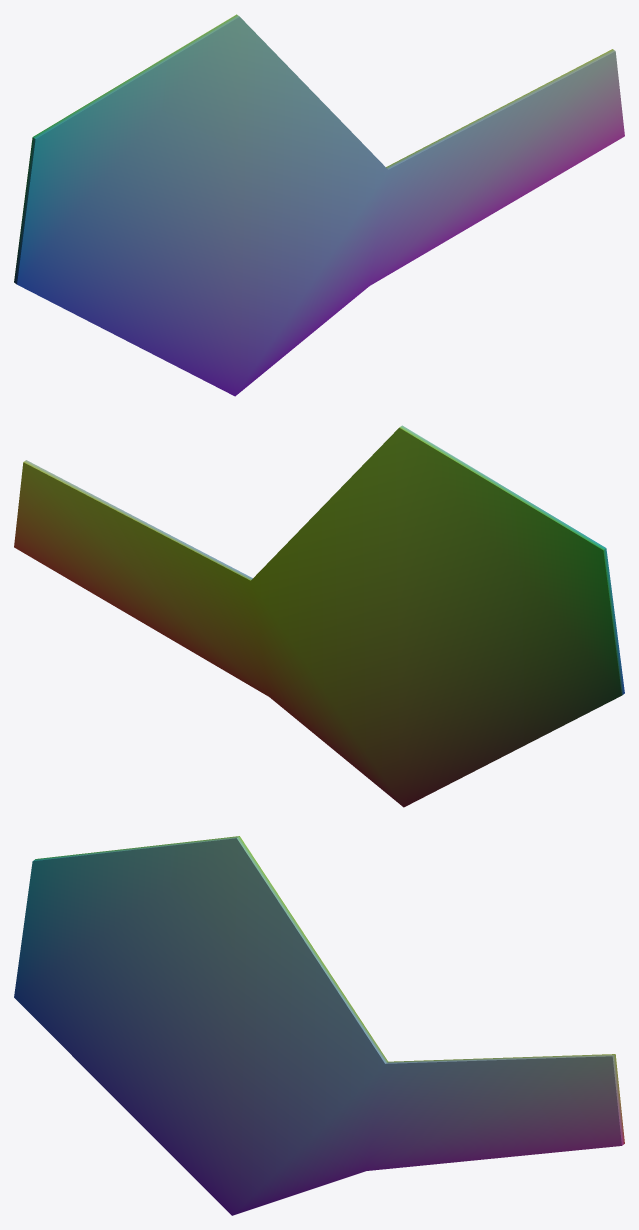
The model's file is zeometry-flat-shapes-flat-boomerang_v1.glb.
The picture shows the model from 3 angles, top to bottom: view 1: azimuth 30°, elevation 25°; view 2: azimuth 150°, elevation 25°; view 3: azimuth 330°, elevation 25°; orthographic projection.
Parts seen in each view (by area): view 1: Flat Boomerang; view 2: Flat Boomerang; view 3: Flat Boomerang.
Part boxes in pixels (x1=…): Flat Boomerang: x1=14, y1=14, x2=624, y2=396; Flat Boomerang: x1=14, y1=425, x2=624, y2=807; Flat Boomerang: x1=14, y1=836, x2=624, y2=1215.
Size of the model in its own units: 0.5 by 0.2977 by 0.00434.
